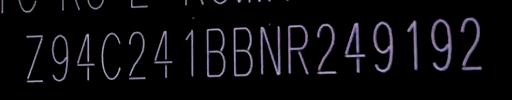letter: (370, 17, 400, 72), (18, 32, 48, 81), (428, 15, 456, 67), (228, 24, 256, 76), (284, 23, 312, 74), (342, 19, 368, 73), (257, 23, 283, 77), (202, 23, 228, 75), (314, 20, 338, 76), (125, 29, 149, 80), (98, 30, 122, 80), (48, 32, 72, 81), (402, 16, 424, 69), (152, 27, 174, 77), (180, 25, 200, 75), (75, 32, 93, 79)
